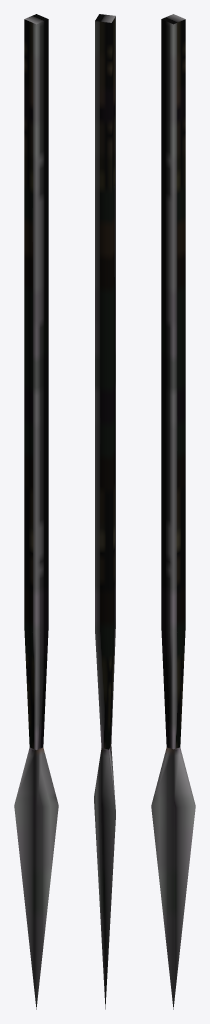
The model's file is jav_loaded_iron.dae.
3 renders of one model, left to right at view 1: azimuth 90°, elevation 25°; view 2: azimuth 210°, elevation 25°; view 3: azimuth 270°, elevation 25°, orthographic.
Visible parts, largest first — view 1: jav_loaded_iron; view 2: jav_loaded_iron; view 3: jav_loaded_iron.
Boxes of the visible parts, x1,y1,x2,y2 form: jav_loaded_iron: [14, 14, 58, 1009]; jav_loaded_iron: [94, 14, 115, 1009]; jav_loaded_iron: [151, 14, 195, 1009].
Bounding box in the file's own units: 0.0639 × 2.85 × 0.1163.
